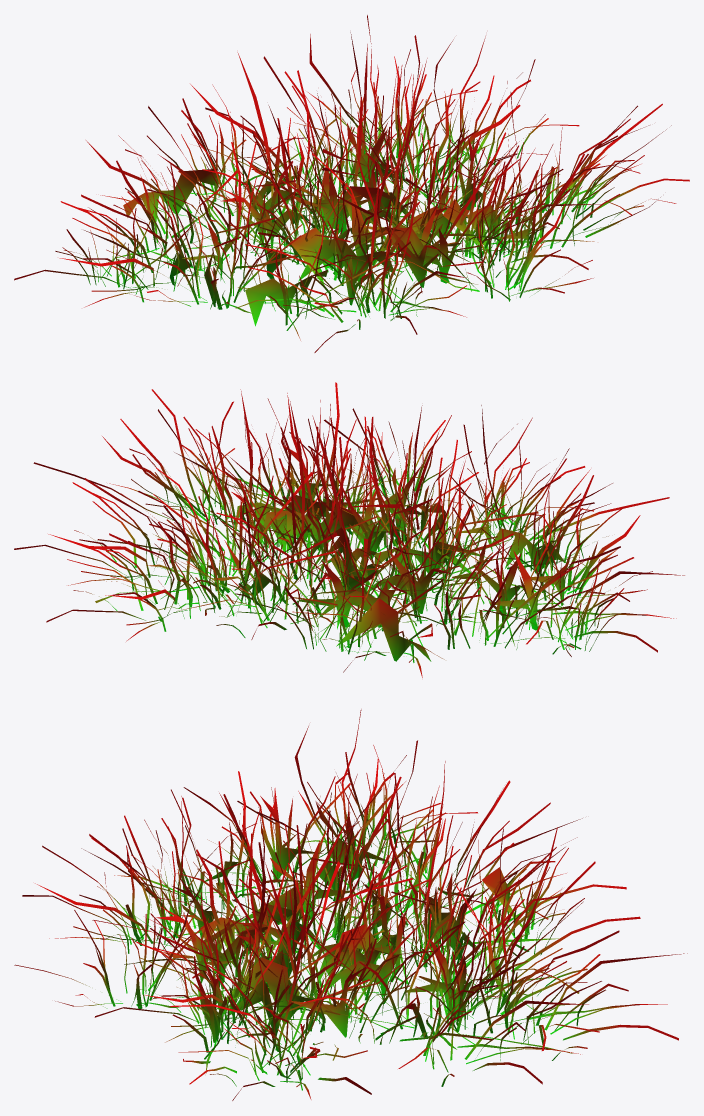
Rendered from Tundra Grass_LOD2_Var5_wk2oaeyqx.fbx.
3 renders of one model, top to bottom at view 1: azimuth 30°, elevation 25°; view 2: azimuth 150°, elevation 25°; view 3: azimuth 270°, elevation 25°, orthographic. The views are drawn at different scales.
Parts seen in each view (by area): view 1: _mgxq_Var5_LOD2; view 2: _mgxq_Var5_LOD2; view 3: _mgxq_Var5_LOD2.
Boxes of the visible parts, left/top/right/bottom form: _mgxq_Var5_LOD2: left=14, top=15, right=689, bottom=352; _mgxq_Var5_LOD2: left=14, top=382, right=684, bottom=677; _mgxq_Var5_LOD2: left=14, top=709, right=687, bottom=1100.
Size of the model in its own units: 96.62 by 24.75 by 78.48.
